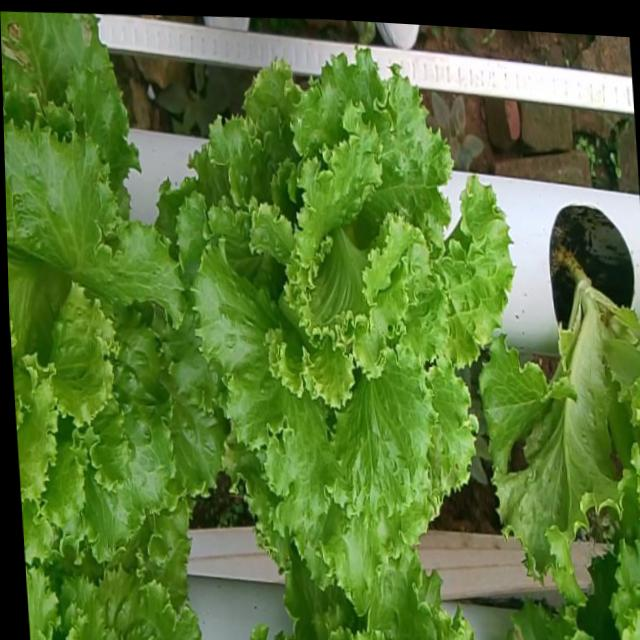Mature: (167, 40, 504, 579), (3, 108, 216, 553)
